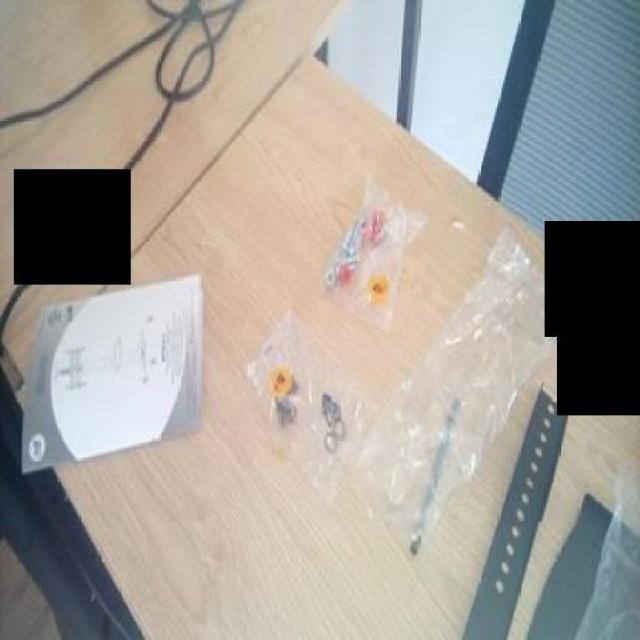plastic bag: (226, 121, 639, 638)
